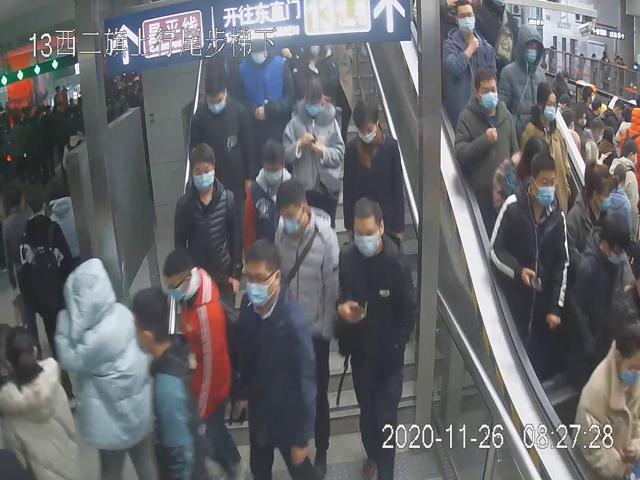person: (337, 192, 415, 480), (269, 181, 340, 480), (235, 237, 316, 480), (485, 149, 572, 356), (174, 142, 239, 320), (452, 63, 519, 229), (340, 92, 407, 244), (277, 76, 346, 220), (187, 68, 257, 194), (243, 139, 293, 253)
